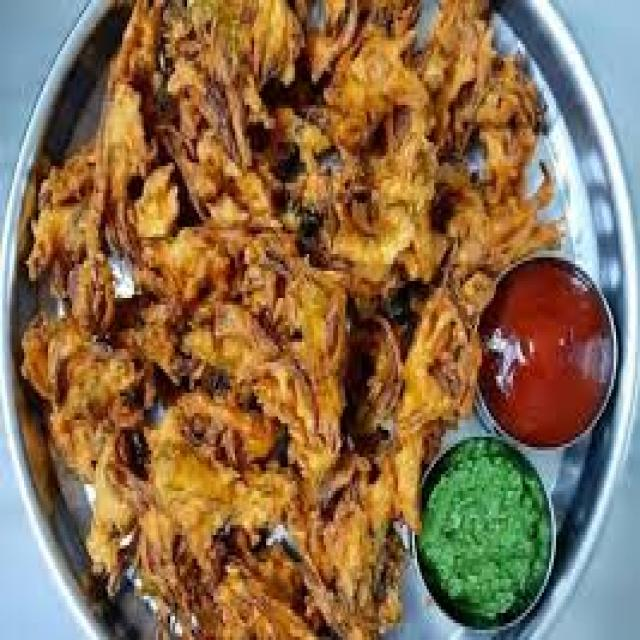BAJI: (24, 3, 545, 637)
